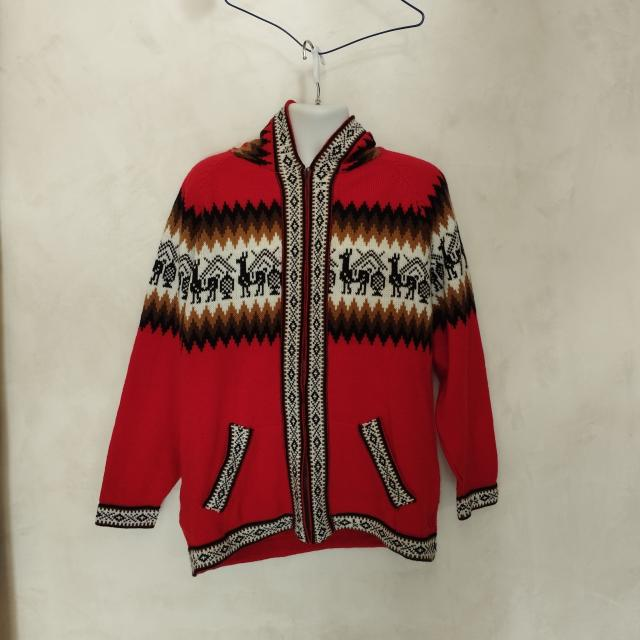Chompa: (94, 99, 500, 577)
